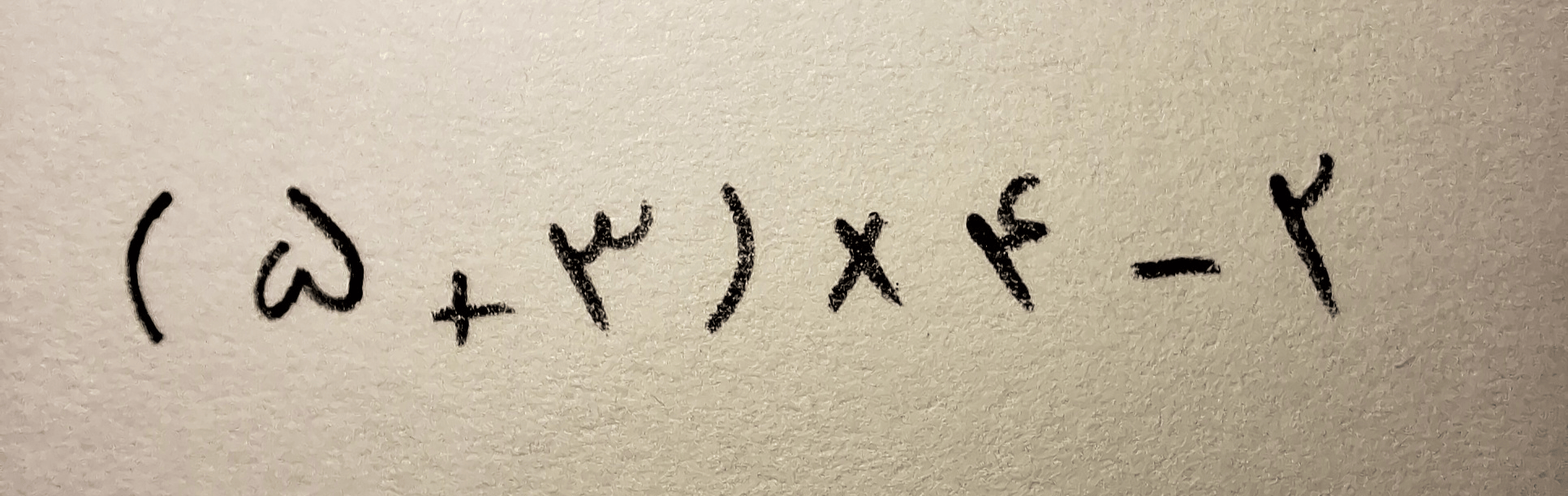character: (254, 185, 367, 321), (548, 200, 655, 331), (1270, 151, 1342, 314), (967, 174, 1052, 310), (706, 182, 756, 335), (828, 212, 903, 309), (127, 191, 172, 344), (430, 268, 515, 346), (1133, 256, 1220, 280)
